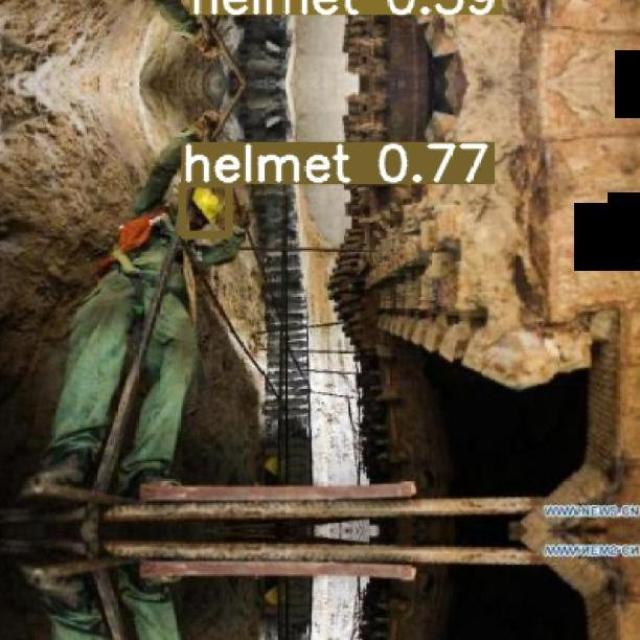yellow helmet: (184, 180, 226, 236)
